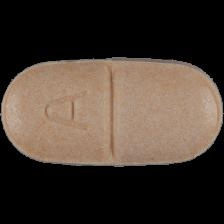0186-0162: (0, 0, 224, 224)
